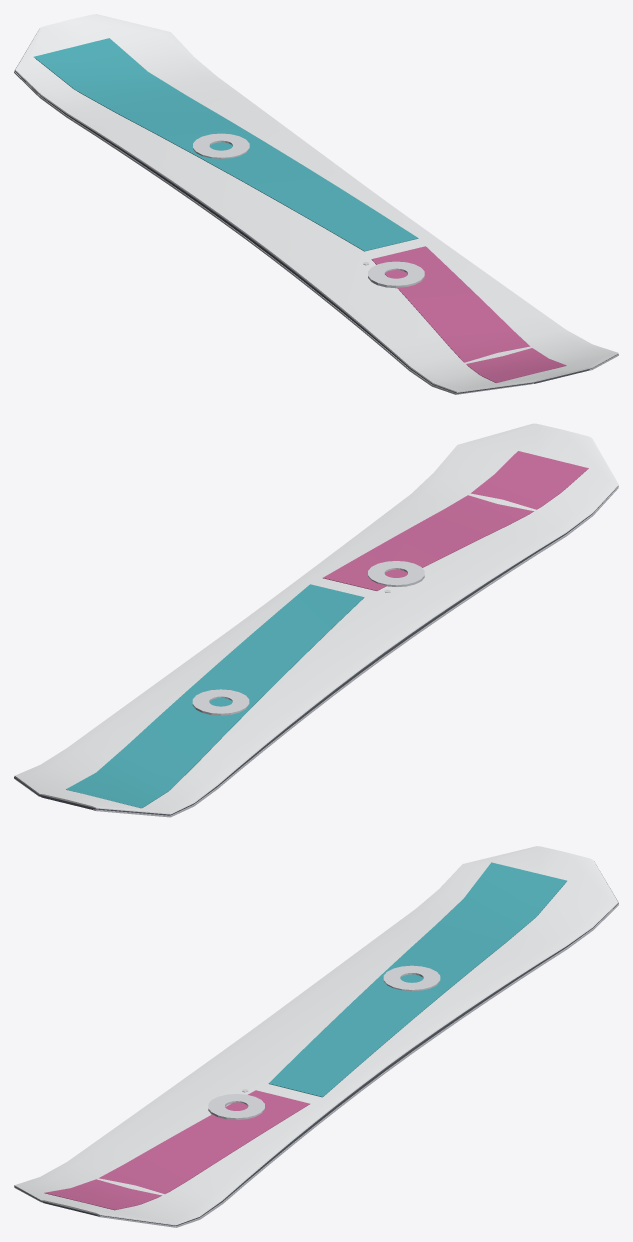
The model's file is snowboard-gear-and-freestyle-riders-all-mountain-direc-ca50bca7__27147.glb.
The picture shows the model from 3 angles, top to bottom: view 1: azimuth 30°, elevation 25°; view 2: azimuth 150°, elevation 25°; view 3: azimuth 330°, elevation 25°; orthographic projection.
Visible parts, largest first — view 1: all-mountain-directional-board-dusk; view 2: all-mountain-directional-board-dusk; view 3: all-mountain-directional-board-dusk.
Boxes of the visible parts, box(x1,y1,x2,y2) form: all-mountain-directional-board-dusk: box(14, 14, 618, 394); all-mountain-directional-board-dusk: box(14, 423, 618, 817); all-mountain-directional-board-dusk: box(14, 846, 618, 1227).
Size of the model in its own units: 0.3001 by 0.0585 by 1.58.
